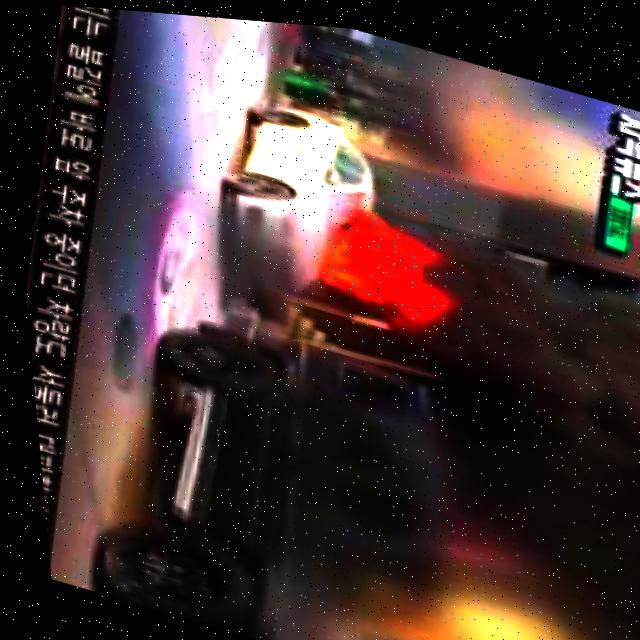Fire: (309, 206, 431, 307)
Smoke: (412, 235, 640, 469)
